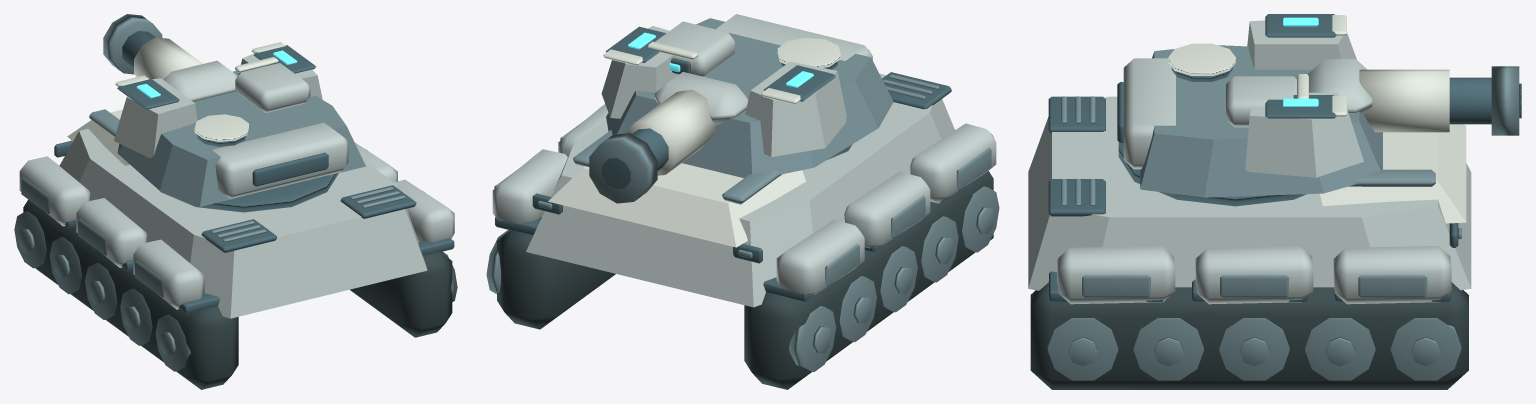
The model's file is aegis-heavy-tank-game.glb.
3 renders of one model, left to right at view 1: azimuth 30°, elevation 25°; view 2: azimuth 150°, elevation 25°; view 3: azimuth 270°, elevation 25°, orthographic. The views are drawn at different scales.
Parts seen in each view (by area): view 1: Segmented track guard, Guardian turret assembly, Aegis rubber track loop, Aegis road wheel, Track grouser, Wedge front glacis; view 2: Segmented track guard, Guardian turret assembly, Aegis rubber track loop, Aegis road wheel, Wedge front glacis, Track grouser; view 3: Guardian turret assembly, Segmented track guard, Aegis road wheel, Aegis rubber track loop, Wedge front glacis, Track grouser.
Part boxes in pixels (left/top/right/bottom): Segmented track guard: left=19, top=128, right=454, bottom=318; Guardian turret assembly: left=103, top=14, right=365, bottom=212; Aegis rubber track loop: left=23, top=199, right=452, bottom=389; Aegis road wheel: left=14, top=109, right=457, bottom=371; Track grouser: left=54, top=140, right=454, bottom=313; Wedge front glacis: left=67, top=109, right=129, bottom=165; Segmented track guard: left=492, top=73, right=996, bottom=307; Guardian turret assembly: left=589, top=14, right=893, bottom=203; Aegis rubber track loop: left=497, top=171, right=993, bottom=389; Aegis road wheel: left=486, top=74, right=999, bottom=371; Wedge front glacis: left=548, top=163, right=806, bottom=247; Track grouser: left=495, top=72, right=951, bottom=301; Guardian turret assembly: left=1117, top=14, right=1521, bottom=206; Segmented track guard: left=1028, top=96, right=1471, bottom=304; Aegis road wheel: left=1047, top=96, right=1461, bottom=380; Aegis rubber track loop: left=1030, top=282, right=1468, bottom=389; Wedge front glacis: left=1320, top=124, right=1466, bottom=223; Track grouser: left=1048, top=96, right=1458, bottom=301.
Size of the model in its own units: 0.854 by 0.6005 by 1.04.
